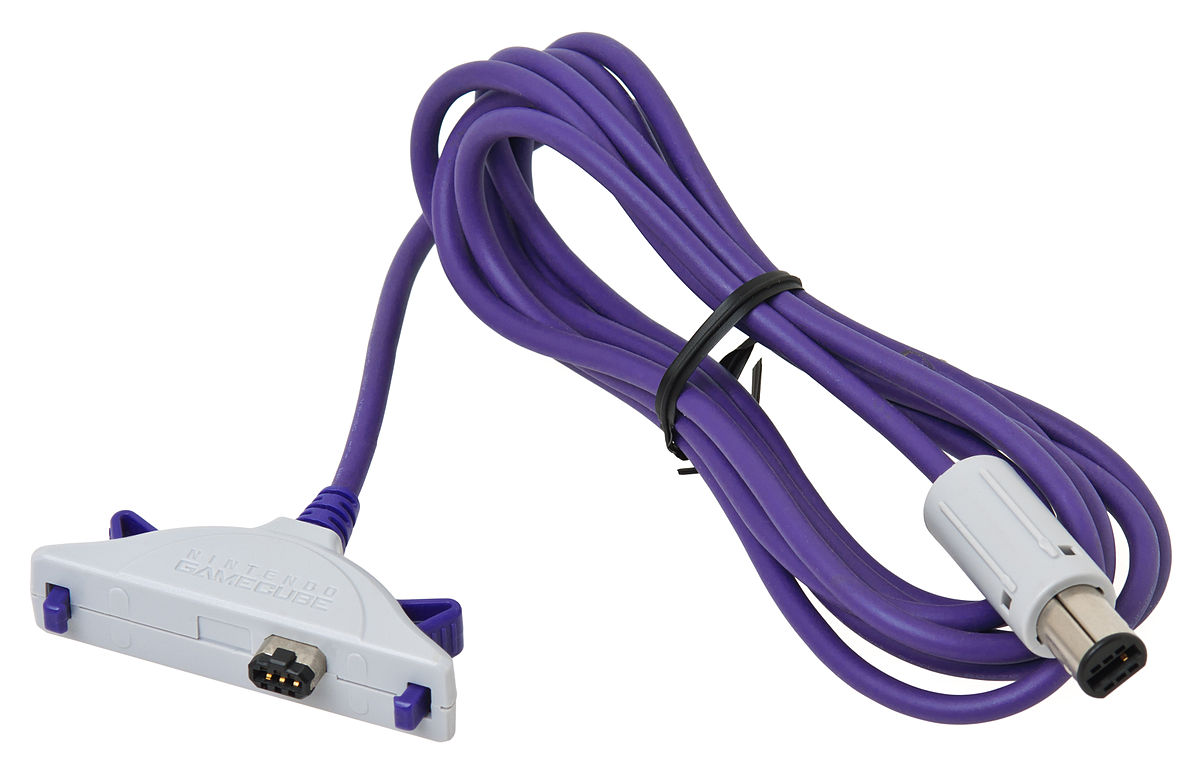Nonrec_Tangler: (22, 30, 1165, 748)
